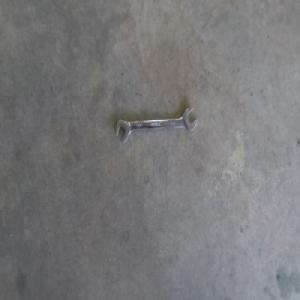Wrench: (113, 112, 201, 150)
